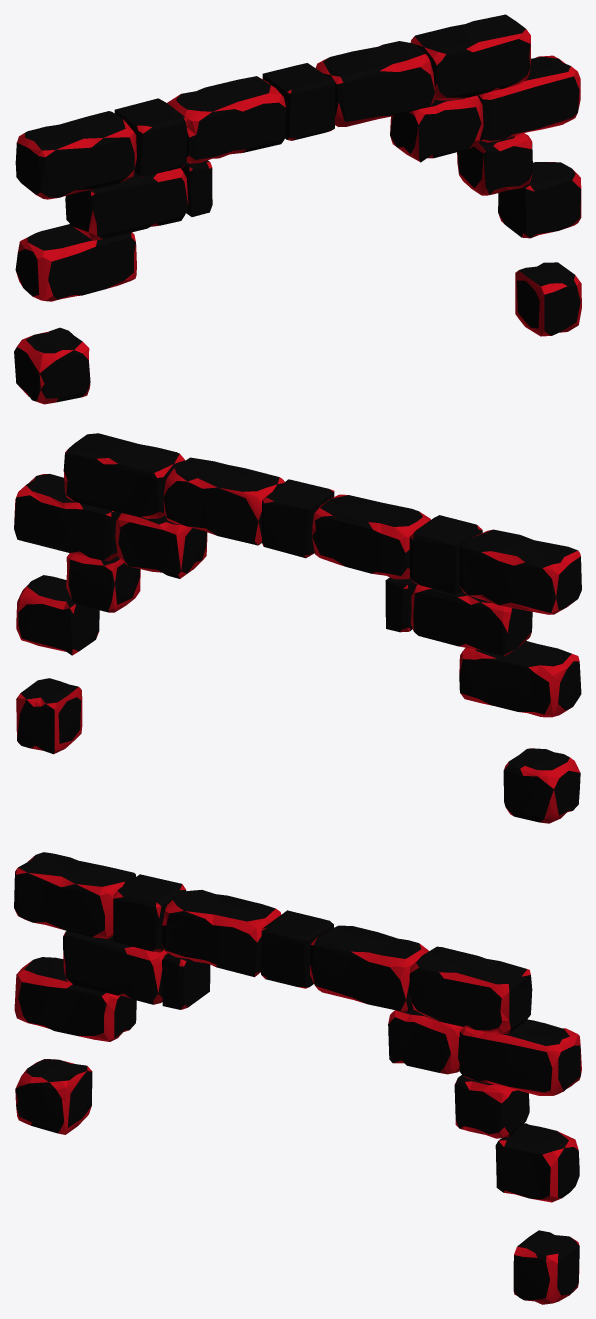
The model's file is SM_ArchWallCover.fbx.
3 views of the same model, one above another, from view 1: azimuth 30°, elevation 25°; view 2: azimuth 150°, elevation 25°; view 3: azimuth 330°, elevation 25° (orthographic).
Visible parts, largest first — view 1: SM_ArchWallCover; view 2: SM_ArchWallCover; view 3: SM_ArchWallCover.
Boxes of the visible parts, x1,y1,x2,y2 form: SM_ArchWallCover: [14, 14, 581, 404]; SM_ArchWallCover: [14, 433, 581, 823]; SM_ArchWallCover: [14, 852, 581, 1304].
Size of the model in its own units: 440 by 43.32 by 240.
